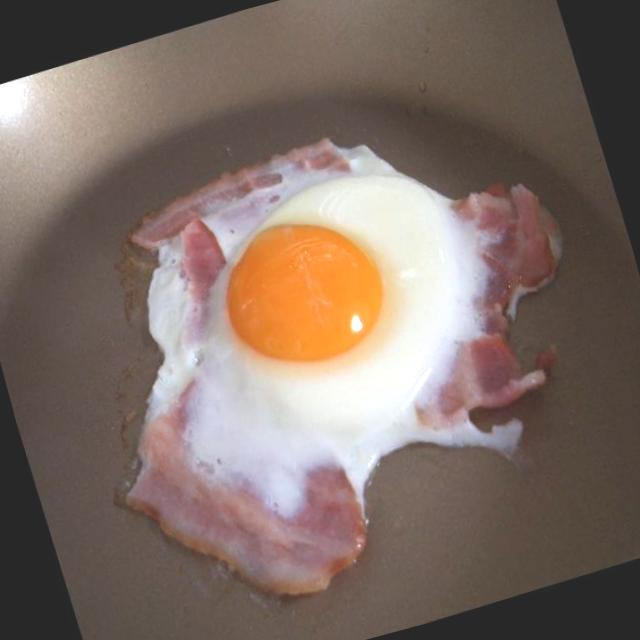Egg: (152, 135, 522, 493)
